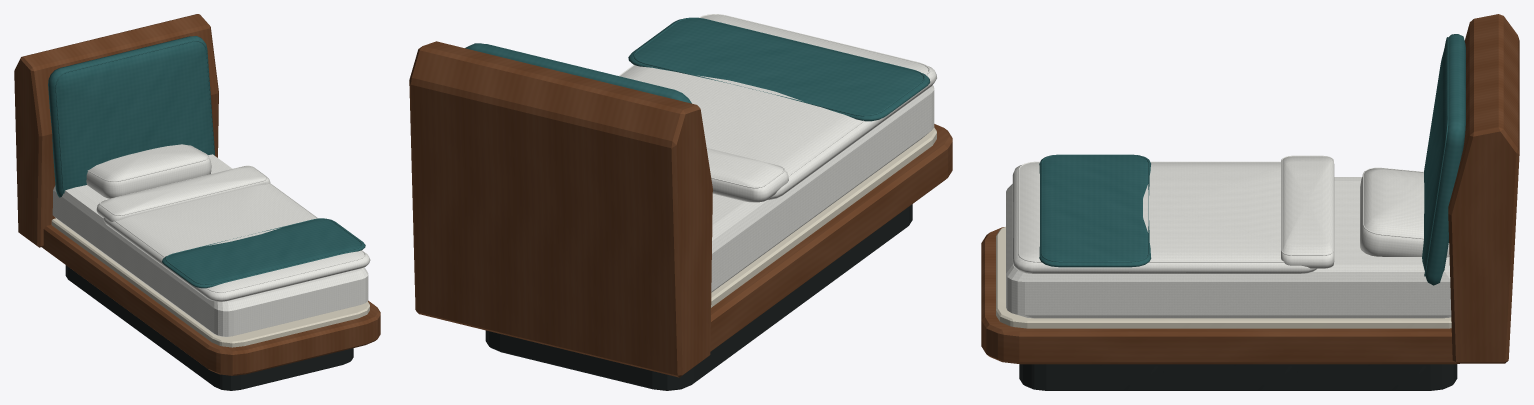
File: AST-SLP-001.glb
3 renders of one model, left to right at view 1: azimuth 30°, elevation 25°; view 2: azimuth 150°, elevation 25°; view 3: azimuth 270°, elevation 25°, orthographic. The views are drawn at different scales.
Parts seen in each view (by area): view 1: AST-SLP-001_static_visual; view 2: AST-SLP-001_static_visual; view 3: AST-SLP-001_static_visual.
Part boxes in pixels (x1,y1,x2,y2): AST-SLP-001_static_visual: (14, 14, 380, 390); AST-SLP-001_static_visual: (409, 14, 952, 390); AST-SLP-001_static_visual: (981, 14, 1519, 390).
Bounding box in the file's own units: 1.23 × 1.37 × 2.41.
Materials: 5 (5 with a texture image).
